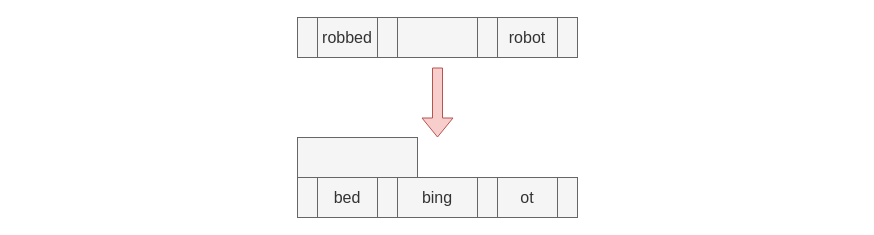
Some shapes in this 874 by 235 pixel diagram are drawn without their labels. Here are the shapes that lost their labels. From the top down, the centre of each, then its label:
At pixel 437 37: "robbing".
At pixel 357 157: "Prefix: rob".
